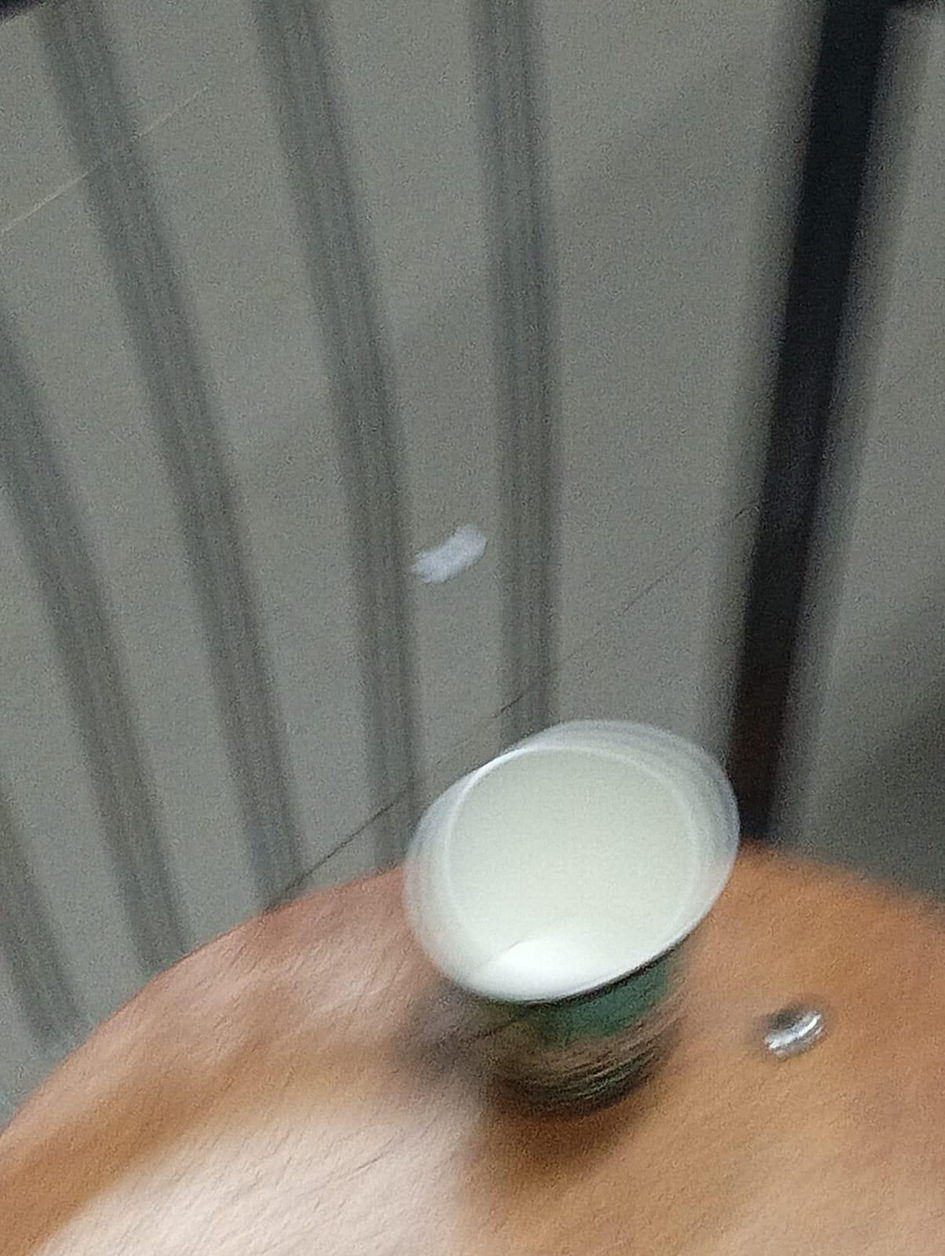cup: (405, 721, 737, 1108)
